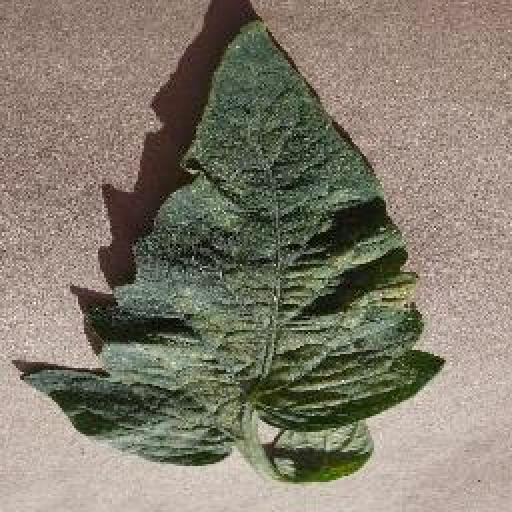disease_tomato: (16, 17, 444, 467)
